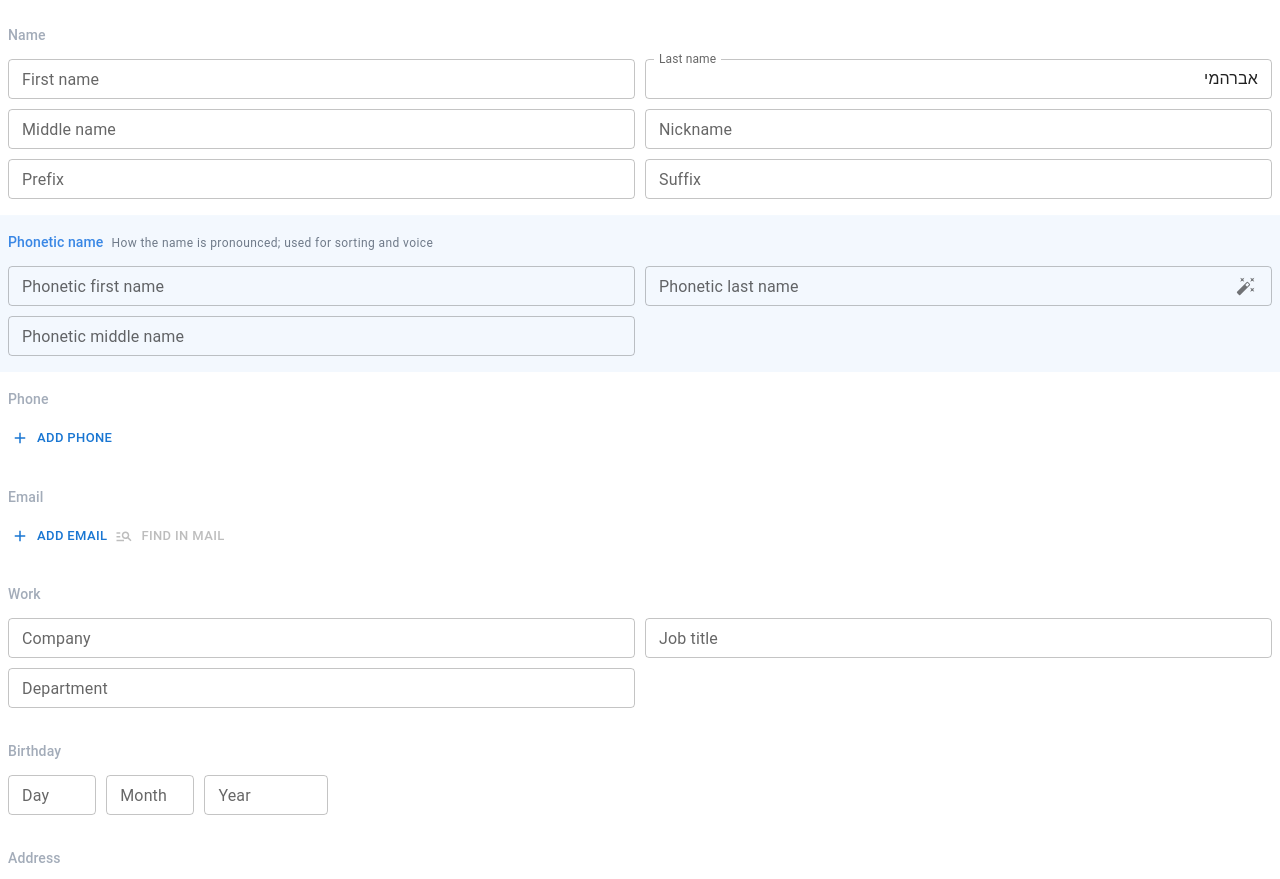
it: contact card auto-fill (FR-77, FR-78) › leaves a part empty when Gemini cannot spell a word
This screenshot has width=1280, height=879.
Click the button named "Fill from the Hebrew name".
click(1246, 286)  # box [1231, 271, 1261, 301]
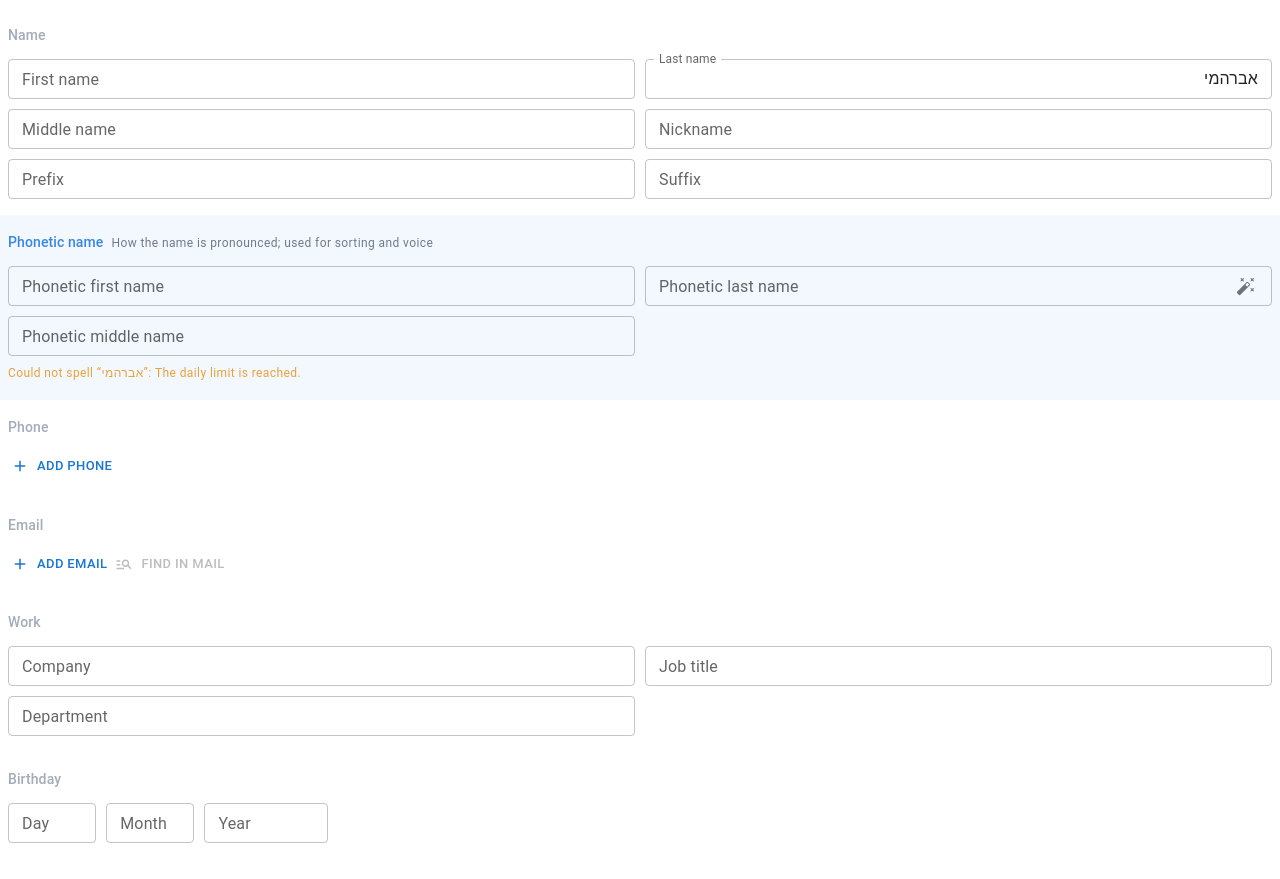
expect the text "Could not spell “אברהמי”: The daily limit is reached." is shown: met, box [8, 366, 301, 380]
